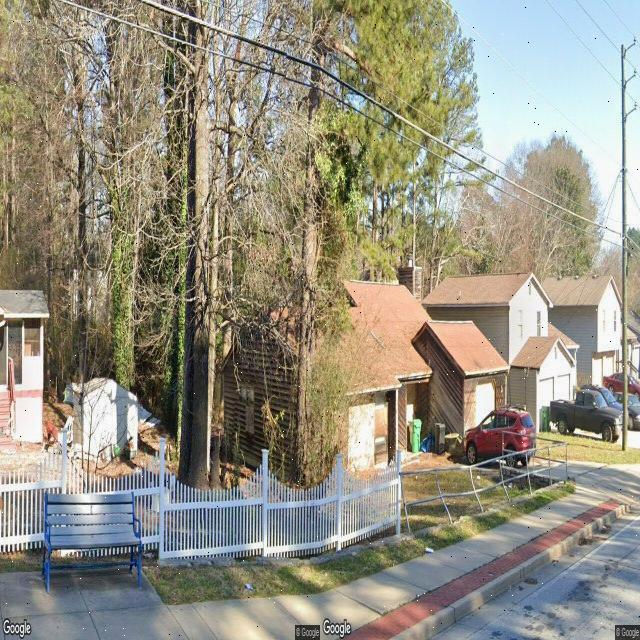seating: (41, 490, 143, 596)
